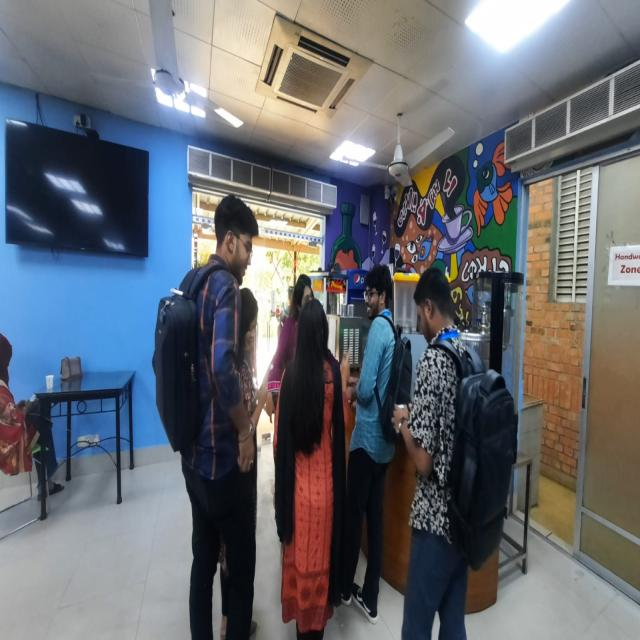gossiping: (153, 189, 404, 519)
